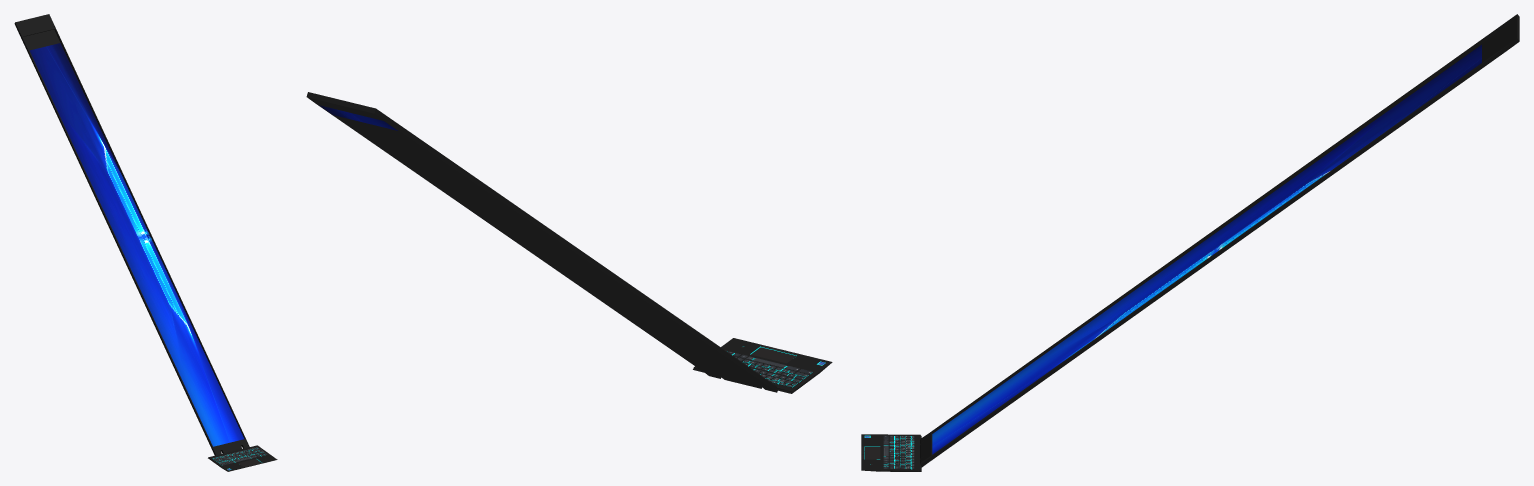
File: Laptop-transformed.glb
The picture shows the model from 3 angles, left to right: view 1: azimuth 30°, elevation 25°; view 2: azimuth 150°, elevation 25°; view 3: azimuth 270°, elevation 25°; orthographic projection. The views are drawn at different scales.
Parts seen in each view (by area): view 1: Cube.001_1, Cube_0, Cube_1; view 2: Cube_0, Cube_1; view 3: Cube.001_1, Cube_0, Cube_1.
Part boxes in pixels (x1,y1,x2,y2): Cube.001_1: (29,43,244,446); Cube_0: (14,14,277,471); Cube_1: (212,447,267,465); Cube_0: (306,92,832,393); Cube_1: (725,350,812,386); Cube.001_1: (932,44,1481,454); Cube_0: (861,14,1519,471); Cube_1: (883,435,914,468).
Bounding box in the file's own units: 3.92 × 21.84 × 30.33.
7 materials, 3 textured.
